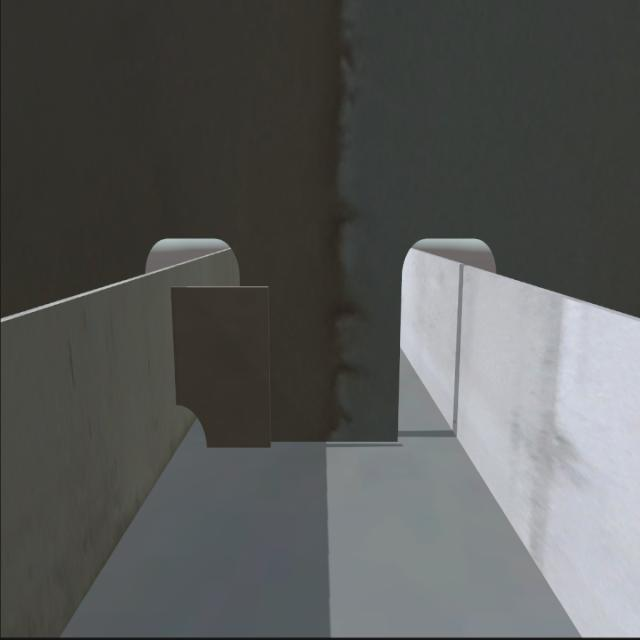fillet_hole: (176, 405, 208, 449)
fillet_yong_jeop_jang: (197, 434, 407, 450)
longi_yong_jeop_jang: (166, 282, 185, 411)
plate_CP01: (171, 284, 273, 453)
